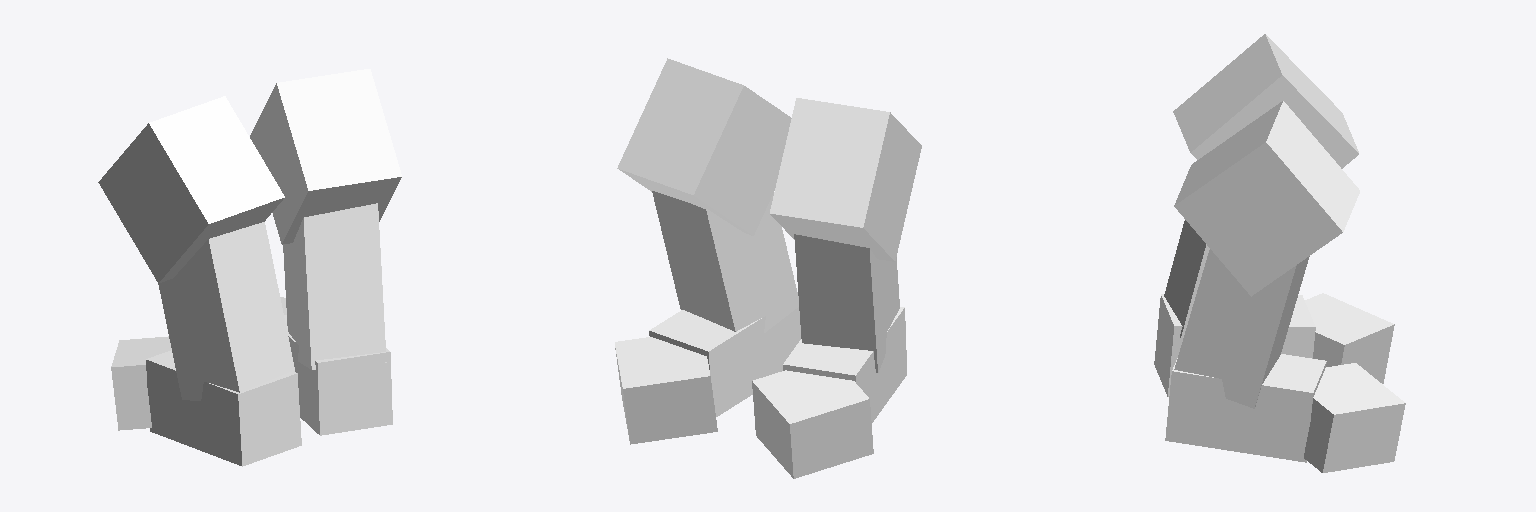
File: mt_object_armor_legs.obj
3 renders of one model, left to right at view 1: azimuth 30°, elevation 25°; view 2: azimuth 150°, elevation 25°; view 3: azimuth 270°, elevation 25°, orthographic.
Parts seen in each view (by area): view 1: cube.000, cube.004, cube, cube.003, cube.001, cube.005, cube.002; view 2: cube.004, cube.000, cube.003, cube.002, cube, cube.006, cube.005, cube.001; view 3: cube.004, cube.003, cube.005, cube.000, cube.006, cube.002, cube.001, cube.
Boxes of the visible parts, box(x1,y1,x2,y2) form: cube.000: box(98, 96, 284, 283); cube.004: box(250, 69, 401, 244); cube: box(158, 222, 295, 400); cube.003: box(283, 203, 386, 369); cube.001: box(146, 350, 301, 466); cube.005: box(284, 315, 392, 435); cube.002: box(111, 336, 171, 430); cube.004: box(617, 58, 791, 235); cube.000: box(770, 98, 921, 261); cube.003: box(652, 191, 798, 332); cube.002: box(752, 370, 873, 478); cube: box(794, 234, 899, 372); cube.006: box(615, 337, 717, 444); cube.005: box(649, 307, 800, 416); cube.001: box(783, 307, 906, 422); cube.004: box(1174, 101, 1359, 296); cube.003: box(1174, 249, 1309, 408); cube.005: box(1165, 354, 1326, 462); cube.000: box(1173, 34, 1358, 168); cube.006: box(1304, 363, 1405, 472); cube.002: box(1305, 293, 1394, 383); cube.001: box(1154, 294, 1315, 396); cube: box(1164, 220, 1209, 337).
Bounding box in the file's own units: 0.8231 × 1.03 × 0.7088.